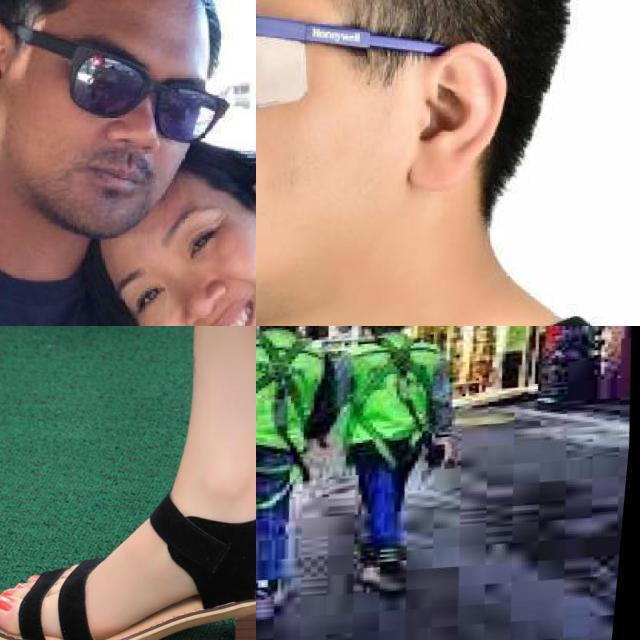Harness: (345, 335, 445, 462), (256, 330, 308, 436)
No_Ear-Protection: (405, 36, 510, 190)
Sandals: (0, 462, 256, 640)
face_nomask: (50, 25, 200, 204), (111, 197, 256, 326)
glasses: (256, 0, 463, 129), (0, 30, 234, 139)
